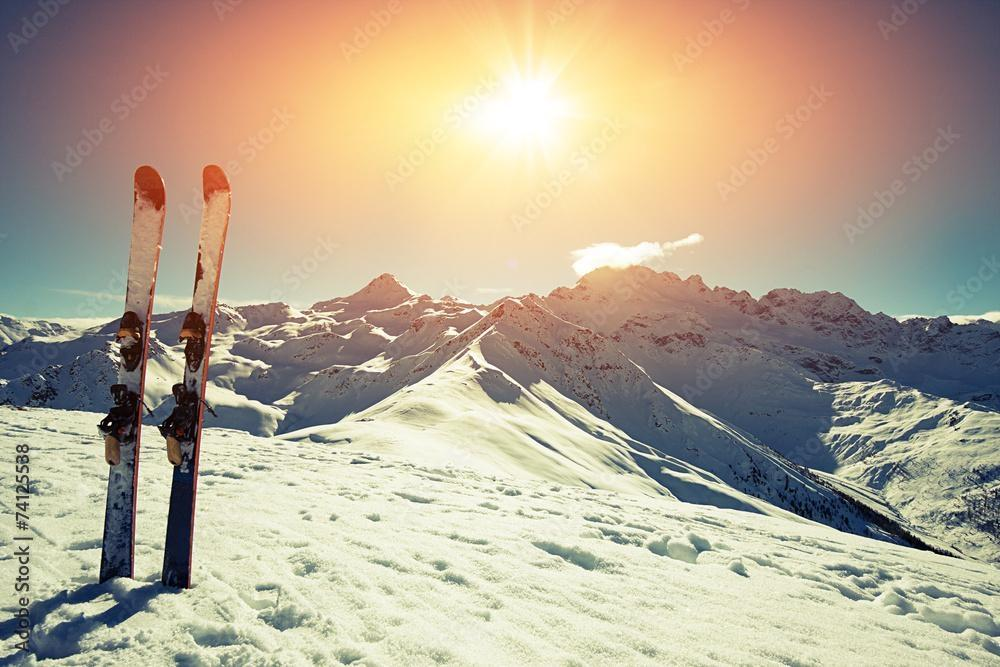Skis: (84, 136, 254, 618)
